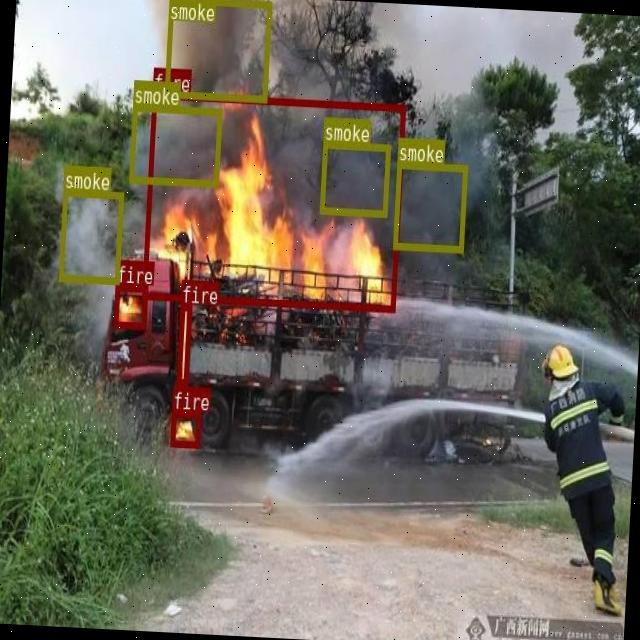fire: (141, 91, 405, 311), (114, 282, 146, 329), (169, 409, 201, 447), (176, 303, 190, 384)
smoke: (163, 0, 271, 101), (129, 103, 221, 185), (393, 161, 466, 251), (59, 188, 122, 282), (320, 140, 390, 215)
